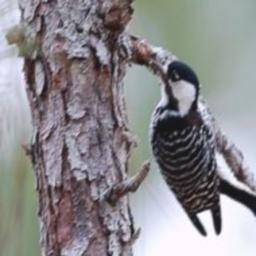Woodpecker: (143, 52, 256, 237)
